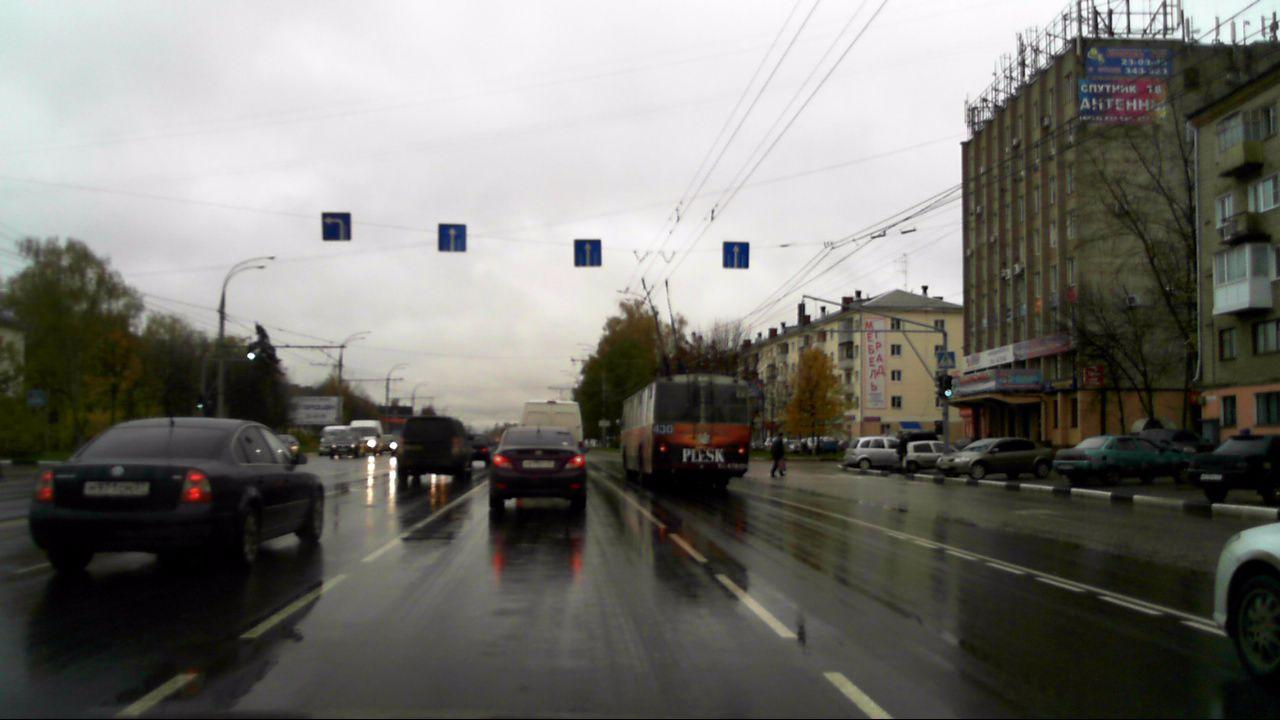5_15_2: (319, 212, 354, 243), (436, 221, 467, 252), (573, 238, 602, 268), (722, 239, 750, 270)
